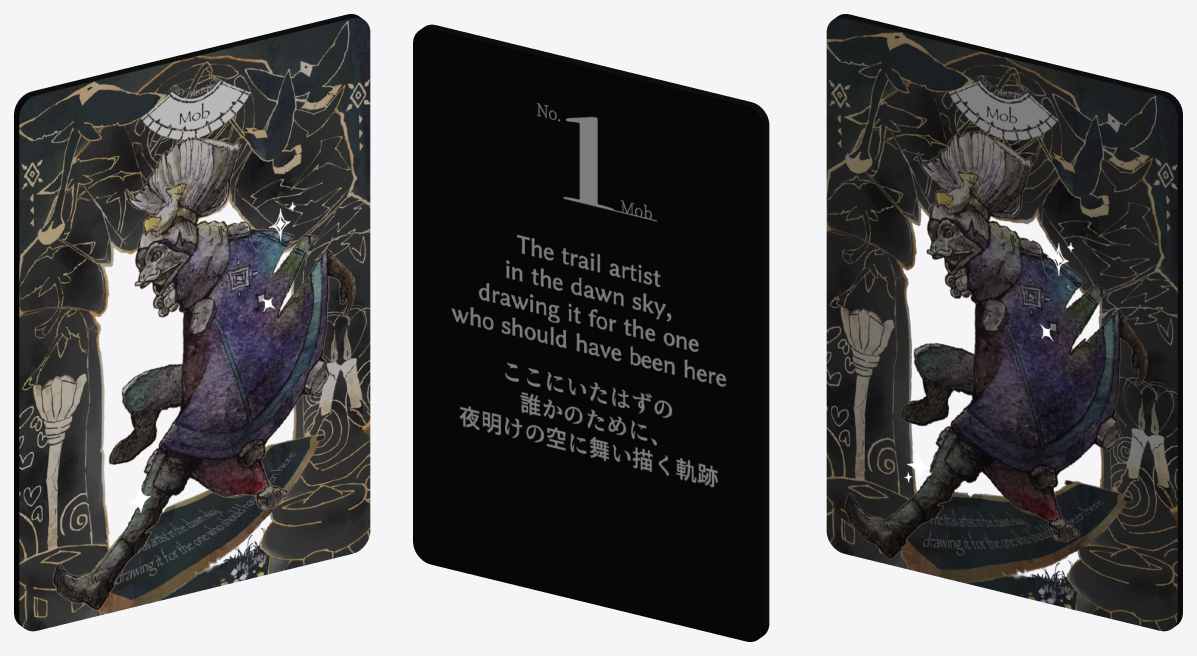
Rendered from 01_Mob.glb.
The picture shows the model from 3 angles, left to right: view 1: azimuth 30°, elevation 25°; view 2: azimuth 150°, elevation 25°; view 3: azimuth 330°, elevation 25°; orthographic projection.
Parts seen in each view (by area): view 1: きらきら; view 2: きらきら; view 3: きらきら.
Boxes of the visible parts, box(x1,y1,x2,y2) form: きらきら: box(14, 14, 370, 631); きらきら: box(413, 24, 769, 641); きらきら: box(826, 14, 1182, 631).
Bounding box in the file's own units: 0.236 × 0.344 × 0.023.
Materials: 5 (4 with a texture image).
